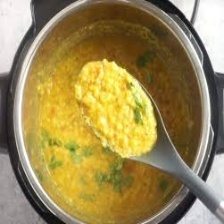dal: (14, 0, 206, 224)
